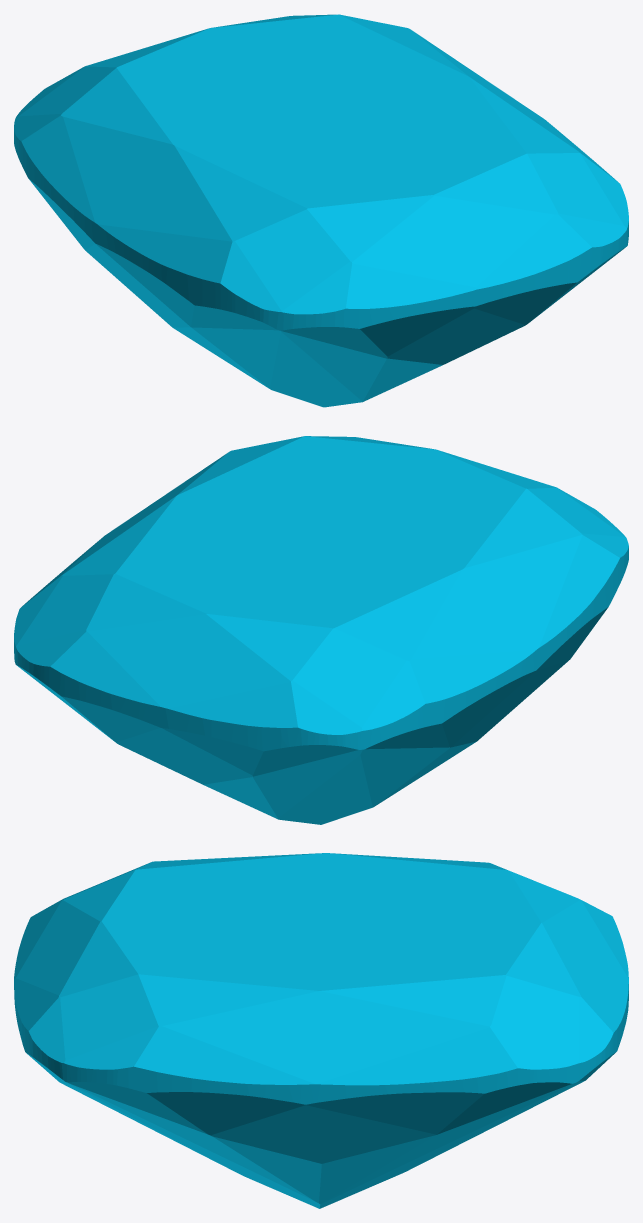
File: Head_Single Halo_Elongated Cushion_1.5ct_Diamond.glb
3 views of the same model, one above another, from view 1: azimuth 30°, elevation 25°; view 2: azimuth 150°, elevation 25°; view 3: azimuth 270°, elevation 25° (orthographic). The views are drawn at different scales.
Bounding box in the file's own units: 0.00575 × 0.00367 × 0.00715.
